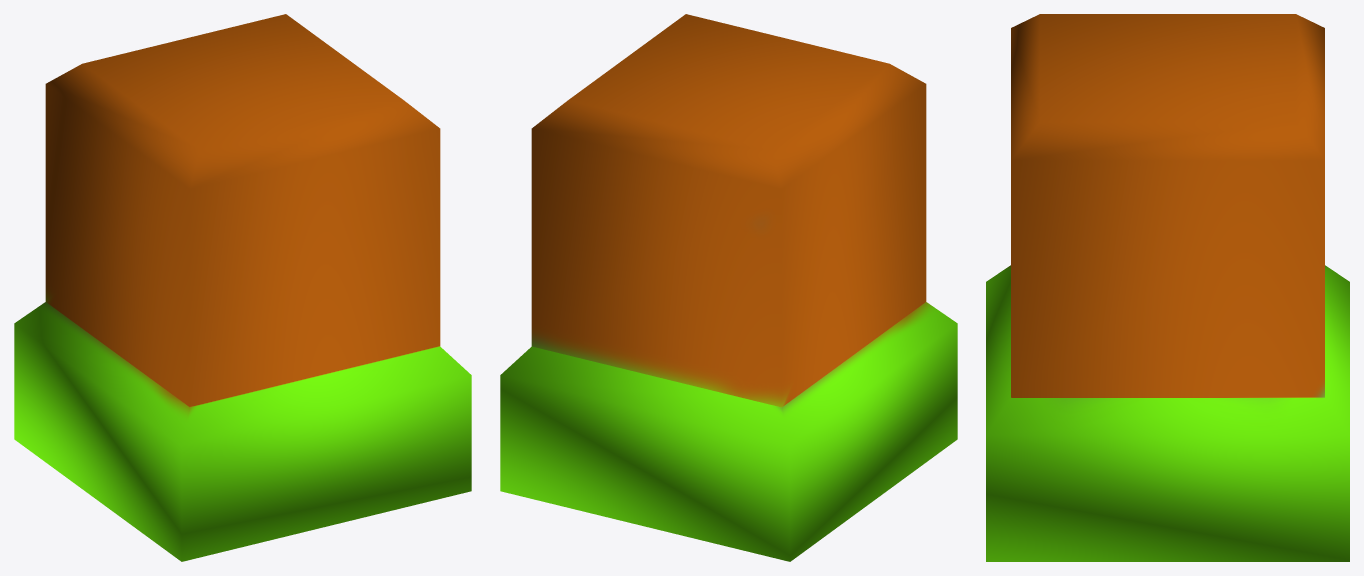
Rendered from dest_fence.fbx.
3 renders of one model, left to right at view 1: azimuth 30°, elevation 25°; view 2: azimuth 150°, elevation 25°; view 3: azimuth 270°, elevation 25°, orthographic. The views are drawn at different scales.
Visible parts, largest first — view 1: Cube; view 2: Cube; view 3: Cube.
Boxes of the visible parts, x1,y1,x2,y2 form: Cube: (14, 14, 471, 561); Cube: (500, 14, 957, 561); Cube: (986, 14, 1349, 561).
Bounding box in the file's own units: 200 × 253 × 200.
